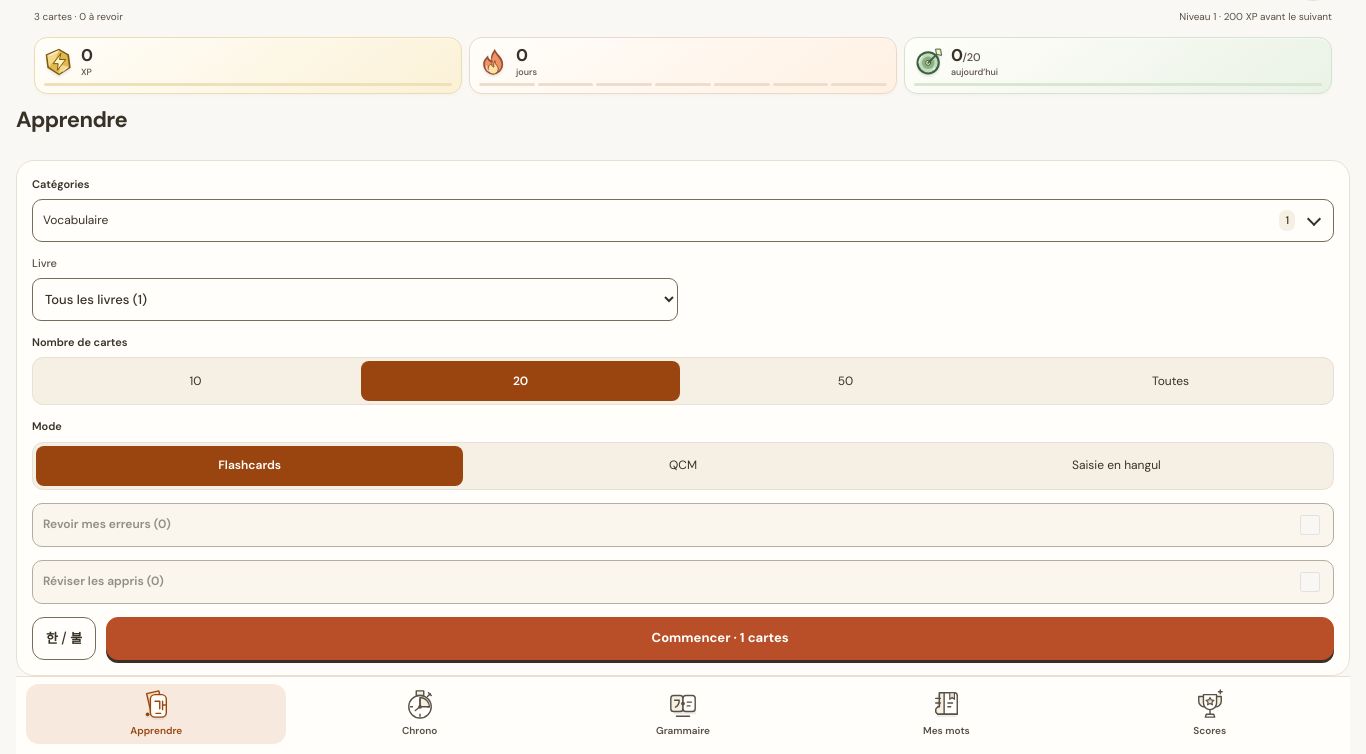
Test case: React workspace › preserves selection across accent-insensitive searches and category filters
The width and height of the screenshot is (1366, 754).
(page scrolled)
Click the button "Mes mots" at {"x": 946, "y": 714}, box [816, 684, 1077, 744]
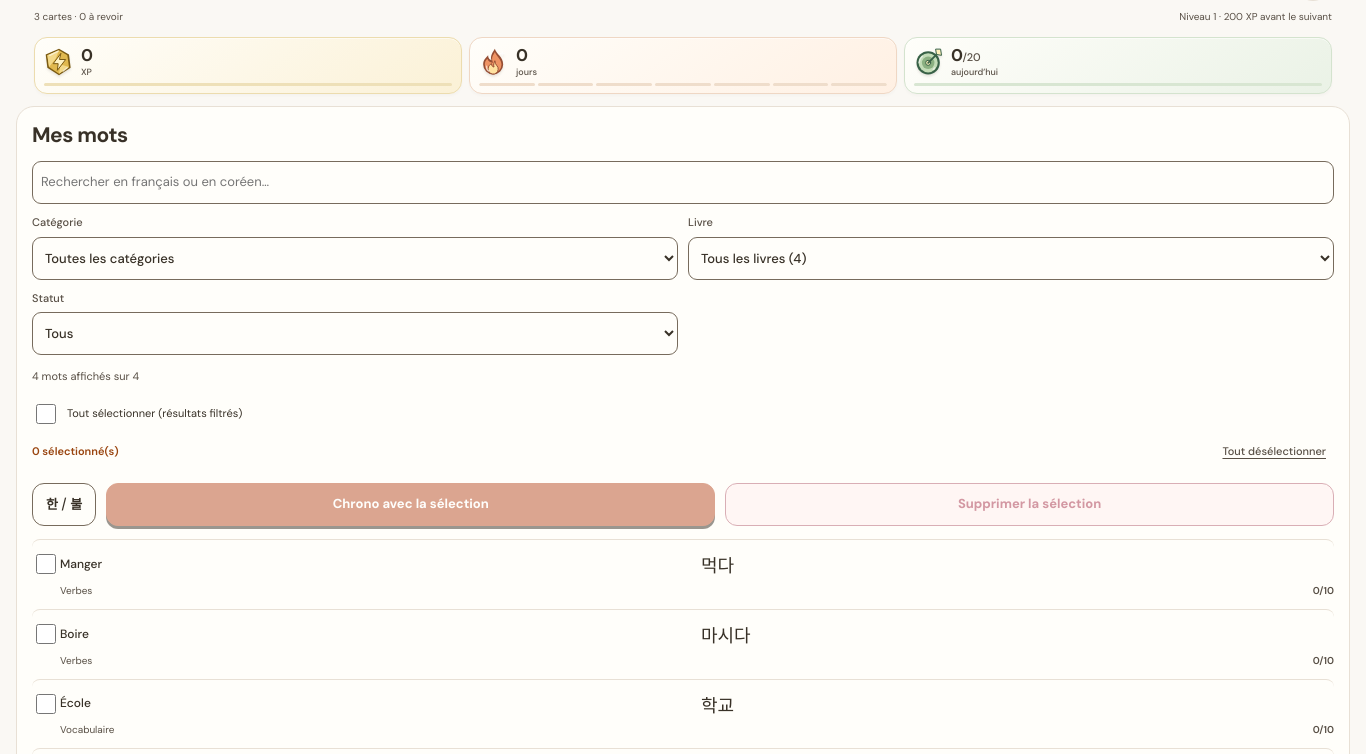
Click the checkbox named "Sélectionner Manger" at {"x": 46, "y": 564}, box [36, 554, 56, 574]
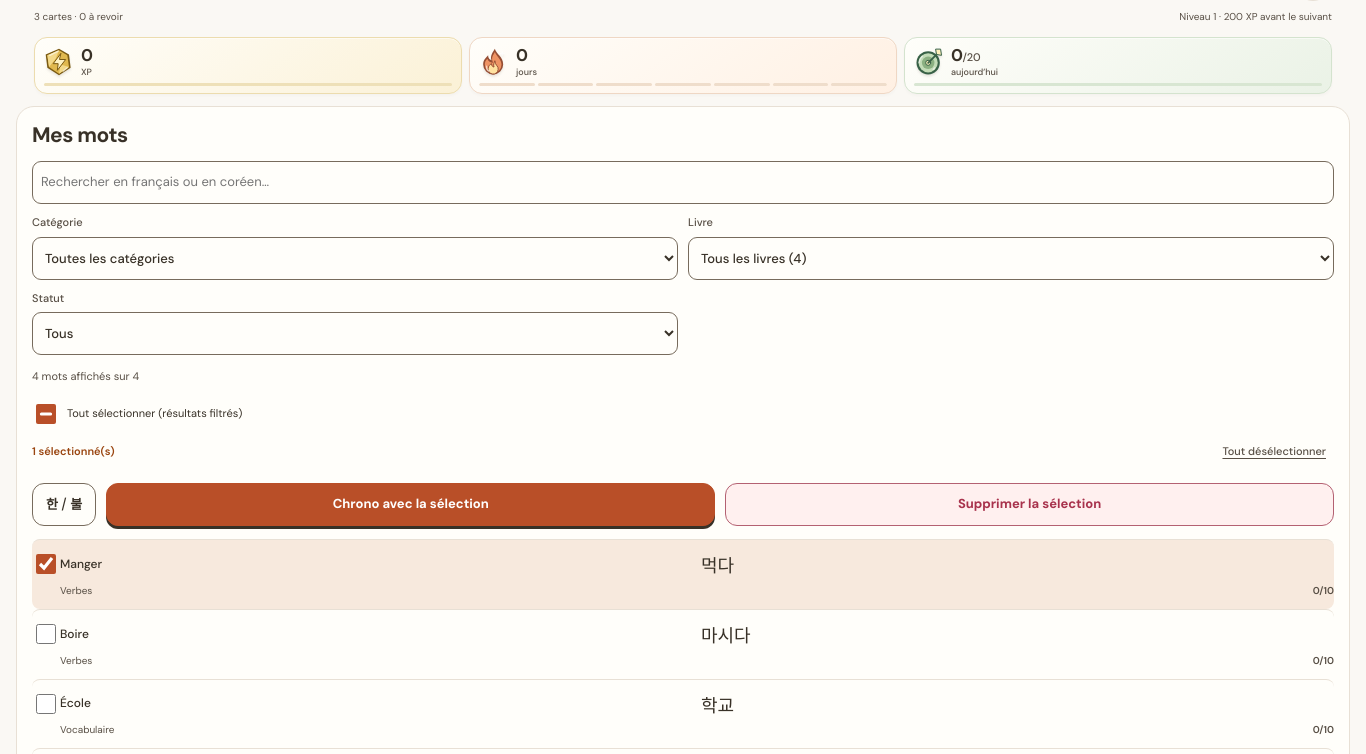
Type "ecole" into the search field at {"x": 683, "y": 183}, box [32, 161, 1334, 204]
(page scrolled)
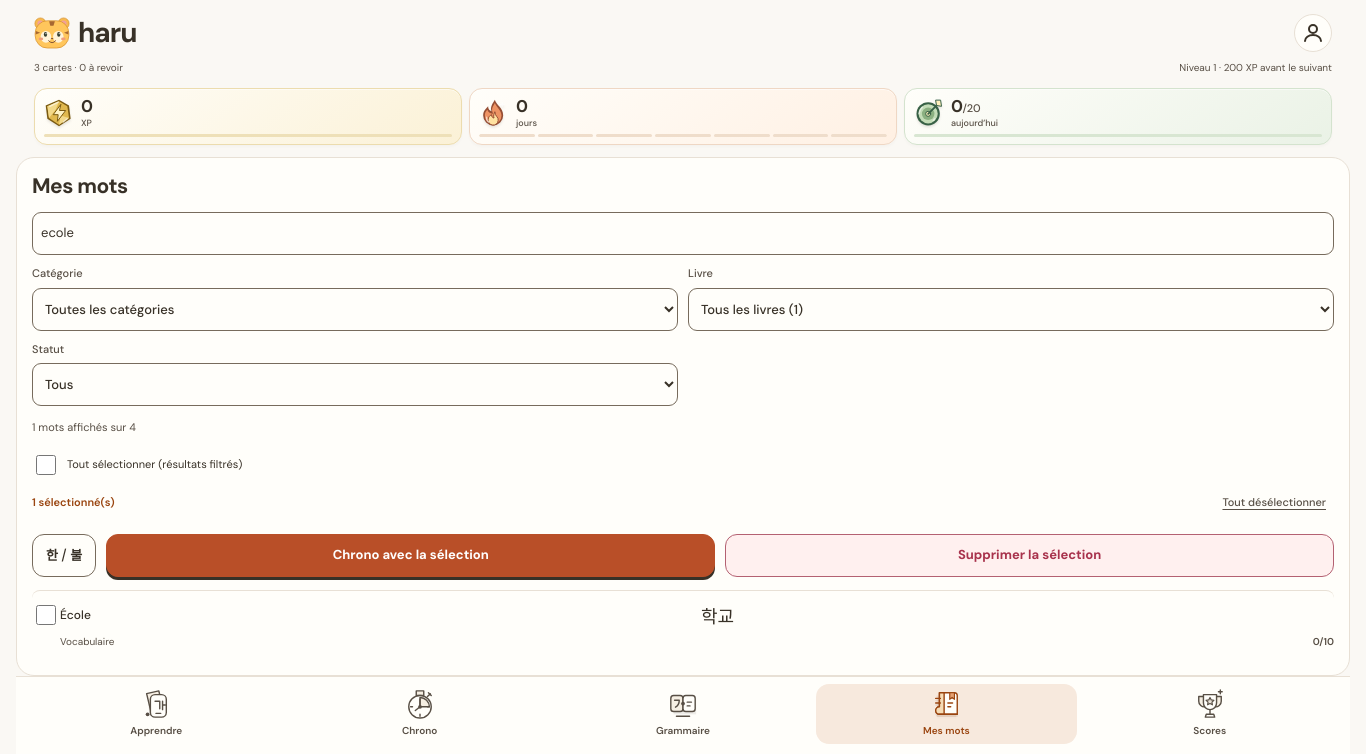
Expected: the checkbox named "Sélectionner École" is shown, [36, 606, 56, 626]
Expected: the text "1 sélectionné(s)" is shown, [32, 494, 115, 512]
Click the checkbox labelled "Tout sélectionner (résultats filtrés)" at {"x": 46, "y": 465}, box [36, 455, 56, 475]
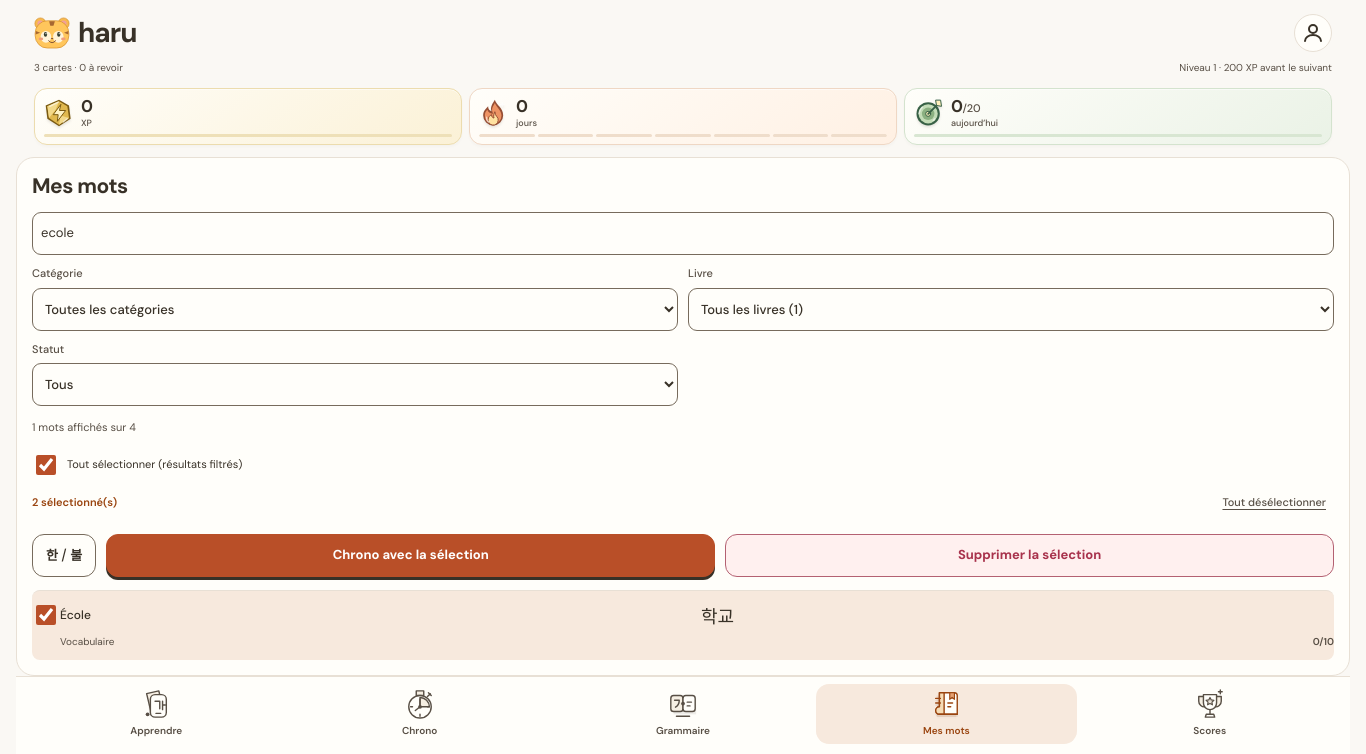
Expected: the text "2 sélectionné(s)" is shown, [32, 494, 117, 512]
Click the button "Apprendre" at {"x": 156, "y": 714}, box [26, 684, 286, 744]
(page scrolled)
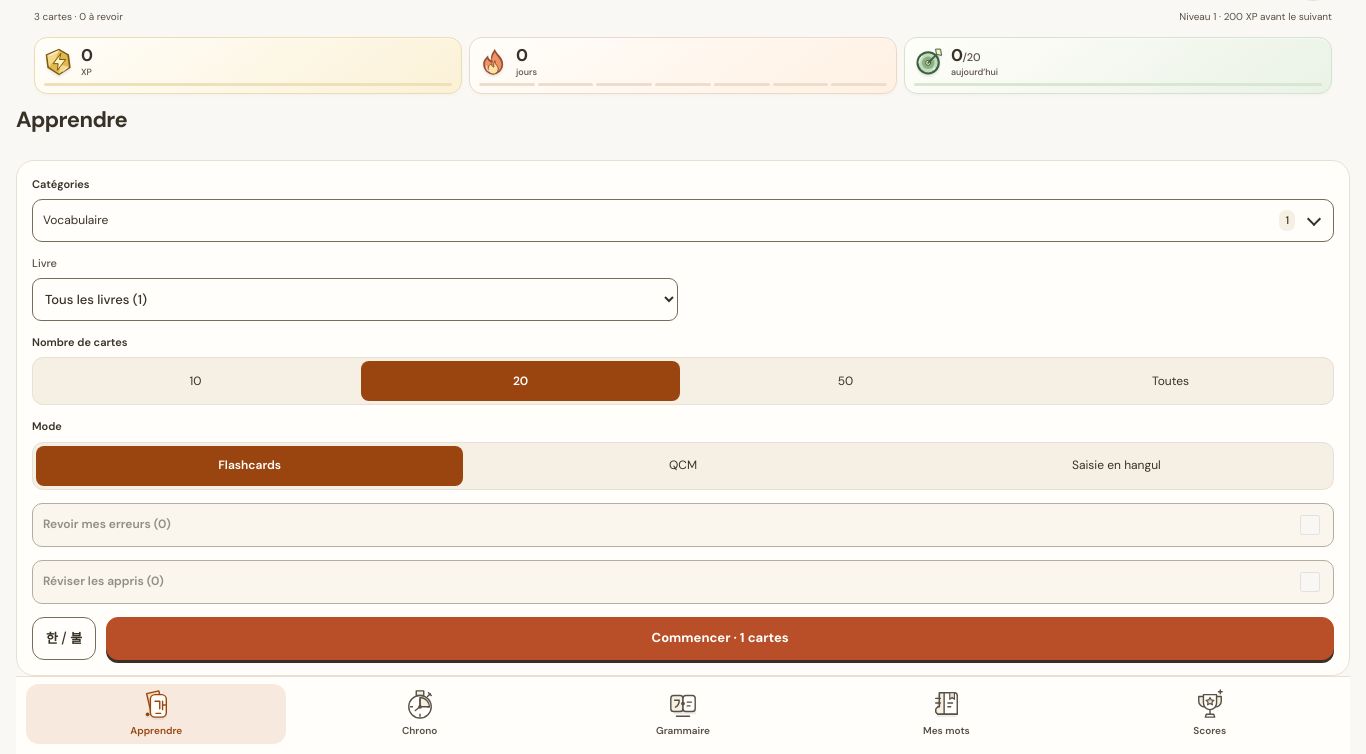
Click the button "Mes mots" at {"x": 946, "y": 714}, box [816, 684, 1077, 744]
(page scrolled)
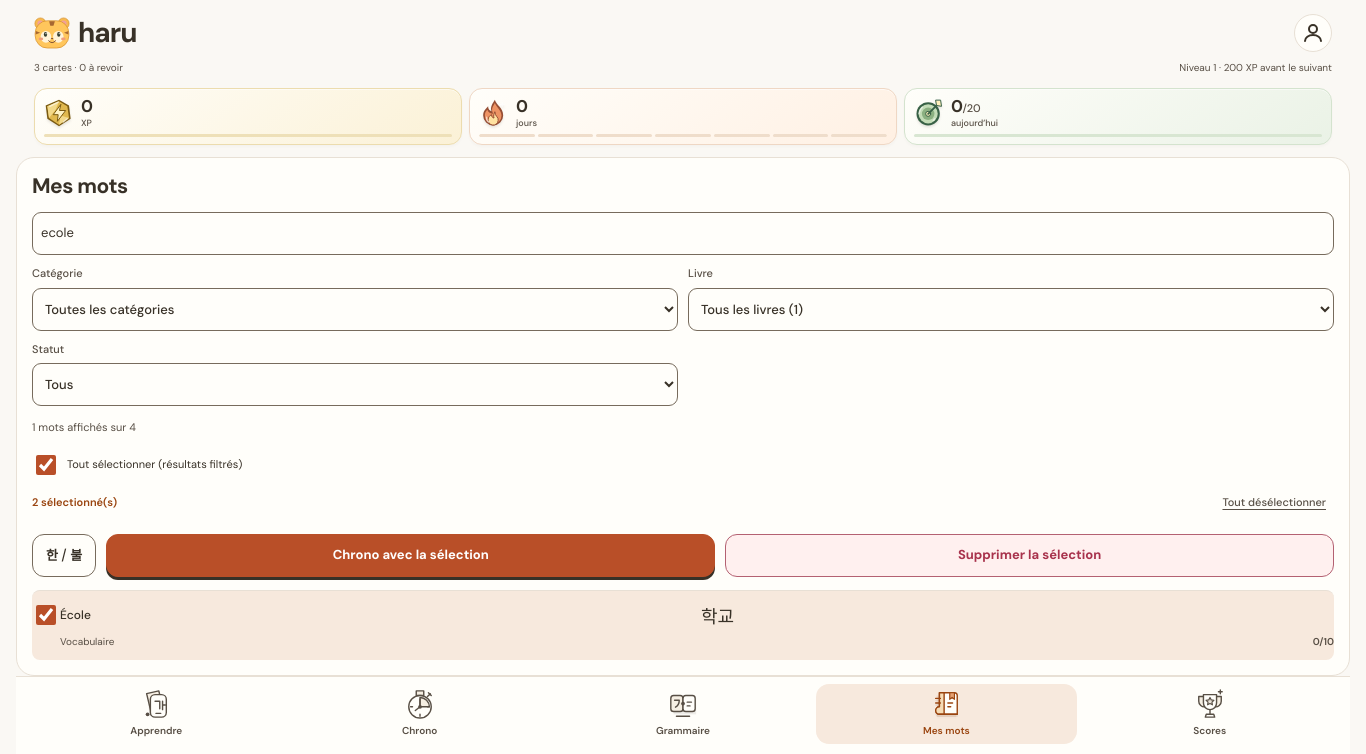
Expected: the text "2 sélectionné(s)" is shown, [32, 494, 117, 512]
